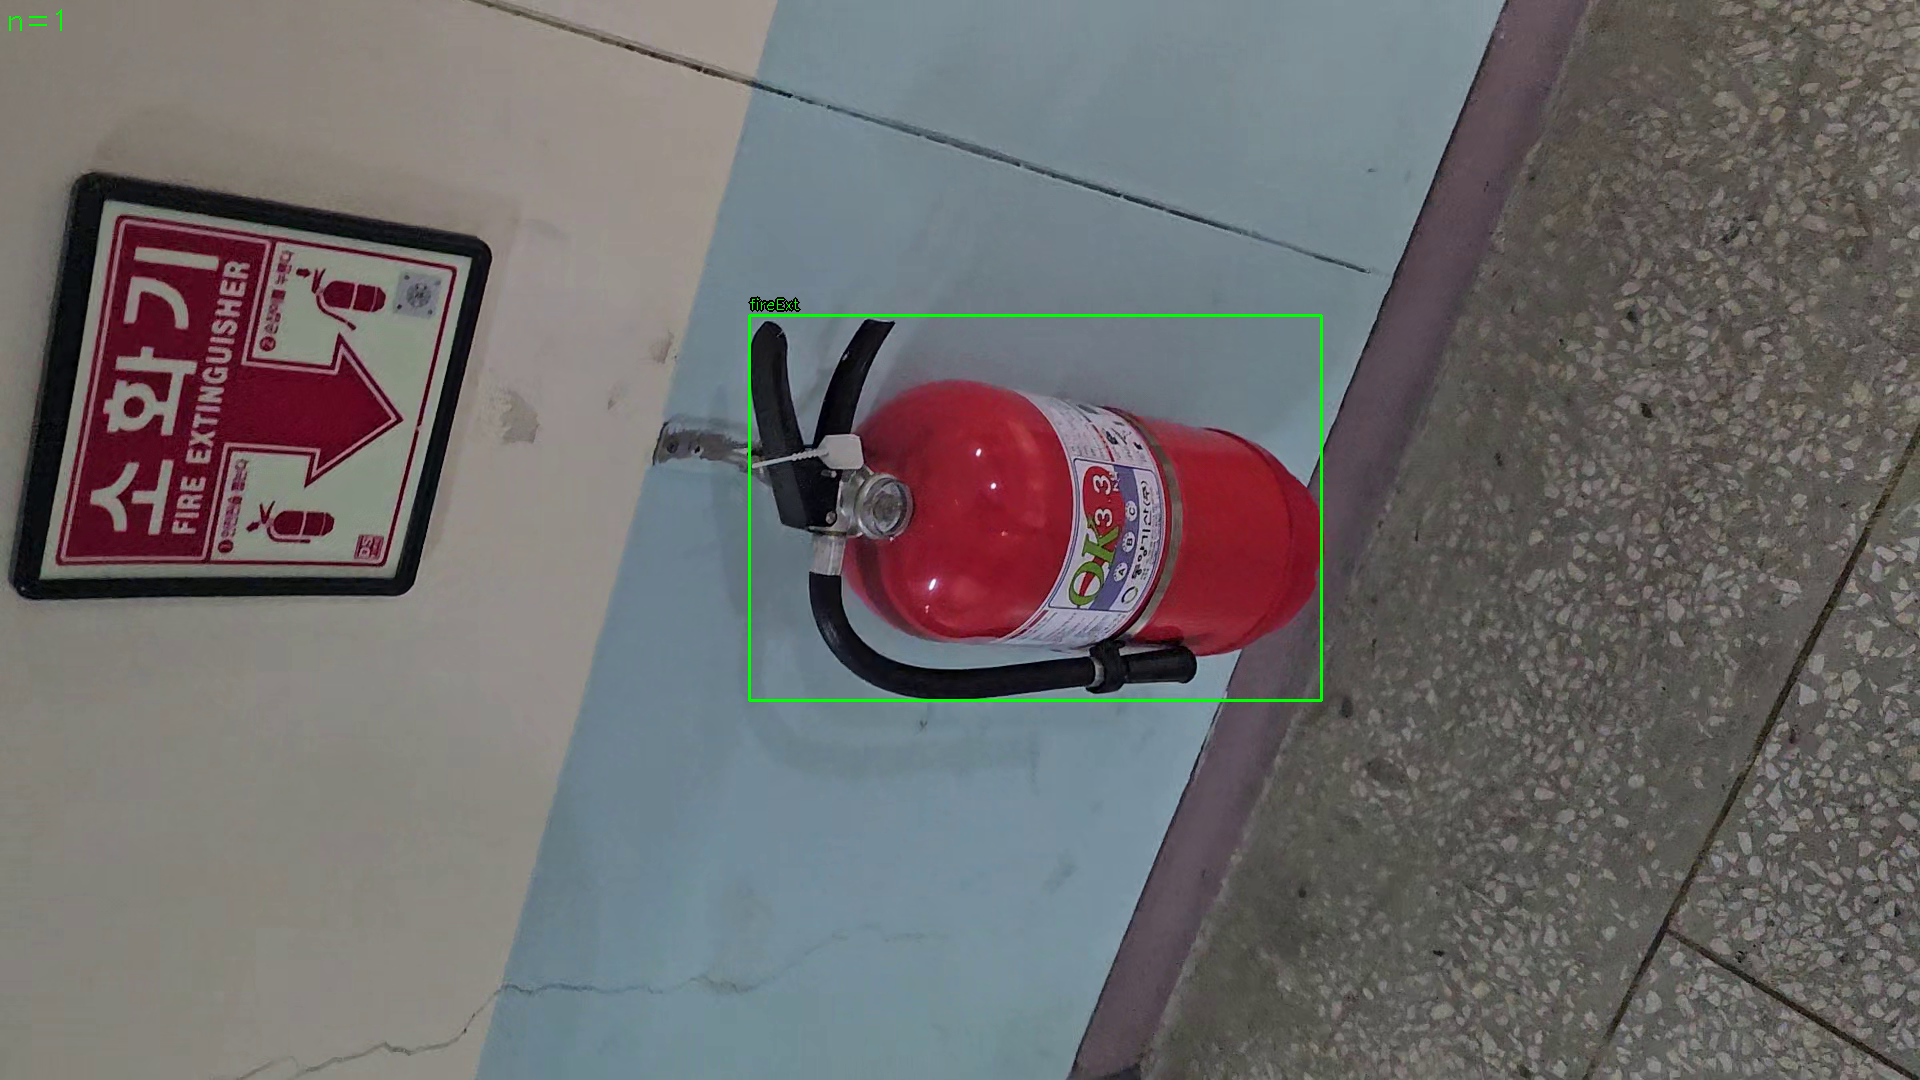lane: (749, 315, 1323, 702)
